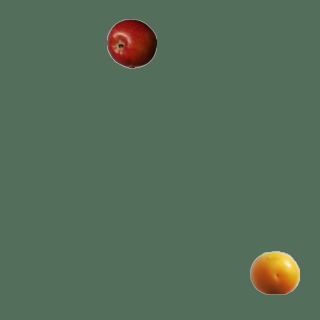Apple Braeburn: (106, 18, 156, 68)
Cherry Wax Yellow: (249, 247, 299, 297)
